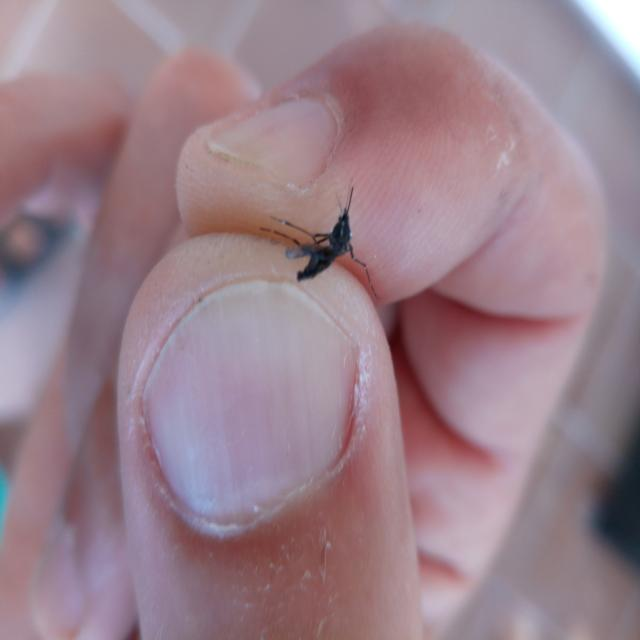albopictus: (262, 172, 389, 298)
